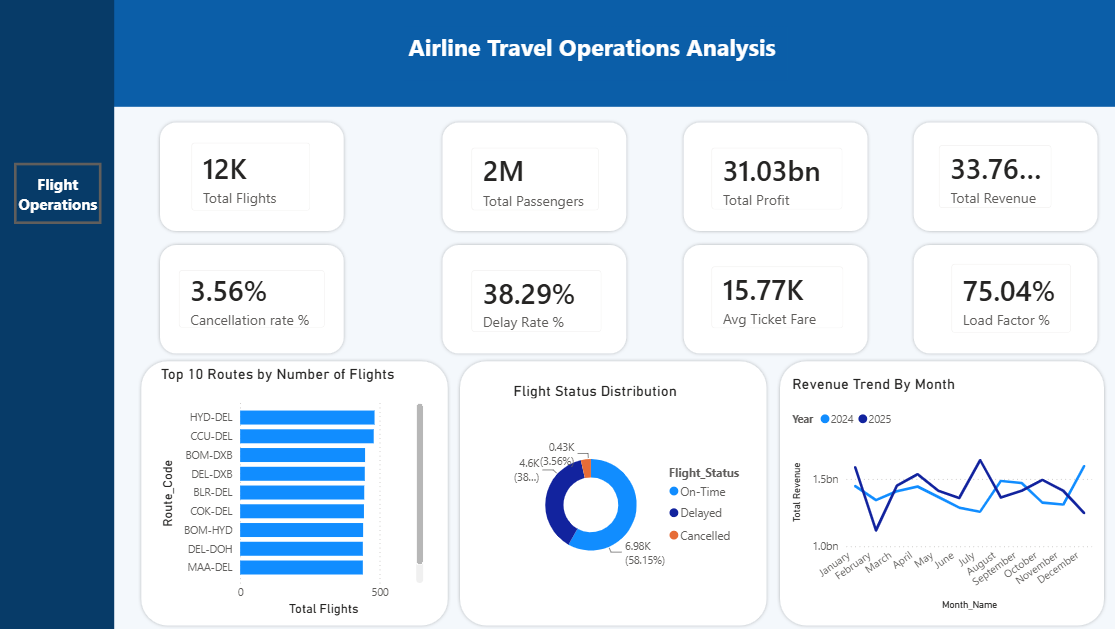

Layout of this report page (visuals, bound fields, positions):
{"tool":"powerbi","page":{"name":"Executive Overview","canvas":[1280,720],"ordinal":1},"visuals":[{"type":"shape","box":[131.7,0,1148.3,123.3],"z":0},{"type":"textbox","box":[463.3,31.7,438.3,61.7],"z":1000},{"type":"shape","box":[0,0,131.7,720],"z":2000},{"type":"shape","box":[180,136.7,218,132],"z":5000},{"type":"shape","box":[503.3,136.7,218,132],"z":6000},{"type":"shape","box":[778.3,136.7,218,132],"z":7000},{"type":"shape","box":[1041.7,136.7,218,132],"z":8000},{"type":"shape","box":[180,276.7,218,132],"z":9000},{"type":"shape","box":[503.3,276.7,218,132],"z":10000},{"type":"shape","box":[778.3,276.7,218,132],"z":11000},{"type":"shape","box":[1041.7,276.7,218,132],"z":12000},{"type":"shape","box":[158.3,410,358.3,310],"z":13000},{"type":"clusteredBarChart","title":"Top 10 Routes by Number of Flights","fields":{"Category":["Dim Route.Route_Code"],"Y":["Fact Flight.Total Flights"]},"box":[180,418.3,310,291.7],"z":14000},{"type":"shape","box":[523.3,410,358.3,310],"z":15000},{"type":"group","id":"g1","title":"Group 1","box":[583.3,436.7,276.7,251.7],"z":16000},{"type":"donutChart","title":"Flight Status Distribution","fields":{"Category":["Fact Flight.Flight_Status"],"Y":["CountNonNull(Fact Flight.Flight_ID)"]},"box":[583.3,436.7,276.7,251.7],"z":16500,"group":"g1"},{"type":"shape","box":[888.3,410,378.3,310],"z":17000},{"type":"lineChart","title":"Revenue Trend By Month","fields":{"Y":["Fact Flight.Total Revenue"],"Category":["Dim_Date.Month_Name"],"Series":["Dim_Date.Year"]},"box":[901.7,430,353.3,273.3],"z":18000},{"type":"cardVisual","fields":{"Data":["Fact Flight.Total Flights"]},"box":[203.3,146.7,170,112.9],"z":19000},{"type":"cardVisual","fields":{"Data":["Dim Passenger.Total Passengers"]},"box":[523.3,153.3,180,106.7],"z":20000},{"type":"cardVisual","fields":{"Data":["Fact Flight.Total Profit"]},"box":[796.7,153.3,184.3,105.7],"z":21000},{"type":"cardVisual","fields":{"Data":["Fact Flight.Total Revenue"]},"box":[1056.7,150,163.3,106.7],"z":22000},{"type":"cardVisual","fields":{"Data":["Fact Flight.Cancellation rate %"]},"box":[188.3,293.3,201.7,100],"z":23000},{"type":"cardVisual","fields":{"Data":["Fact Flight.Delay Rate %"]},"box":[523.3,293.3,183.3,105],"z":24000},{"type":"cardVisual","fields":{"Data":["Fact Flight.Avg Ticket Fare"]},"box":[796.7,288.3,185,105],"z":25000},{"type":"cardVisual","fields":{"Data":["Fact Flight.Load Factor %"]},"box":[1071.7,285,171.7,113.3],"z":26000},{"type":"actionButton","box":[16.7,186.7,100,70],"z":27001}]}

Visuals, with their boxes in screenshot pixels (x1, y1, x2, y2), scaled from the page's 1280x720 canvas onto the 1115x629 screenshot:
shape: 115, 0, 1114, 108
textbox: 404, 28, 785, 82
shape: 0, 0, 115, 628
shape: 157, 119, 347, 235
shape: 438, 119, 628, 235
shape: 678, 119, 868, 235
shape: 907, 119, 1097, 235
shape: 157, 242, 347, 357
shape: 438, 242, 628, 357
shape: 678, 242, 868, 357
shape: 907, 242, 1097, 357
shape: 138, 358, 450, 628
"Top 10 Routes by Number of Flights" clusteredBarChart: 157, 365, 427, 620
shape: 456, 358, 768, 628
"Group 1" group: 508, 382, 749, 601
"Flight Status Distribution" donutChart: 508, 382, 749, 601
shape: 774, 358, 1103, 628
"Revenue Trend By Month" lineChart: 785, 376, 1093, 614
cardVisual - Fact Flight.Total Flights: 177, 128, 325, 227
cardVisual - Dim Passenger.Total Passengers: 456, 134, 613, 227
cardVisual - Fact Flight.Total Profit: 694, 134, 855, 226
cardVisual - Fact Flight.Total Revenue: 920, 131, 1063, 224
cardVisual - Fact Flight.Cancellation rate %: 164, 256, 340, 344
cardVisual - Fact Flight.Delay Rate %: 456, 256, 616, 348
cardVisual - Fact Flight.Avg Ticket Fare: 694, 252, 855, 344
cardVisual - Fact Flight.Load Factor %: 934, 249, 1083, 348
actionButton: 15, 163, 102, 224
